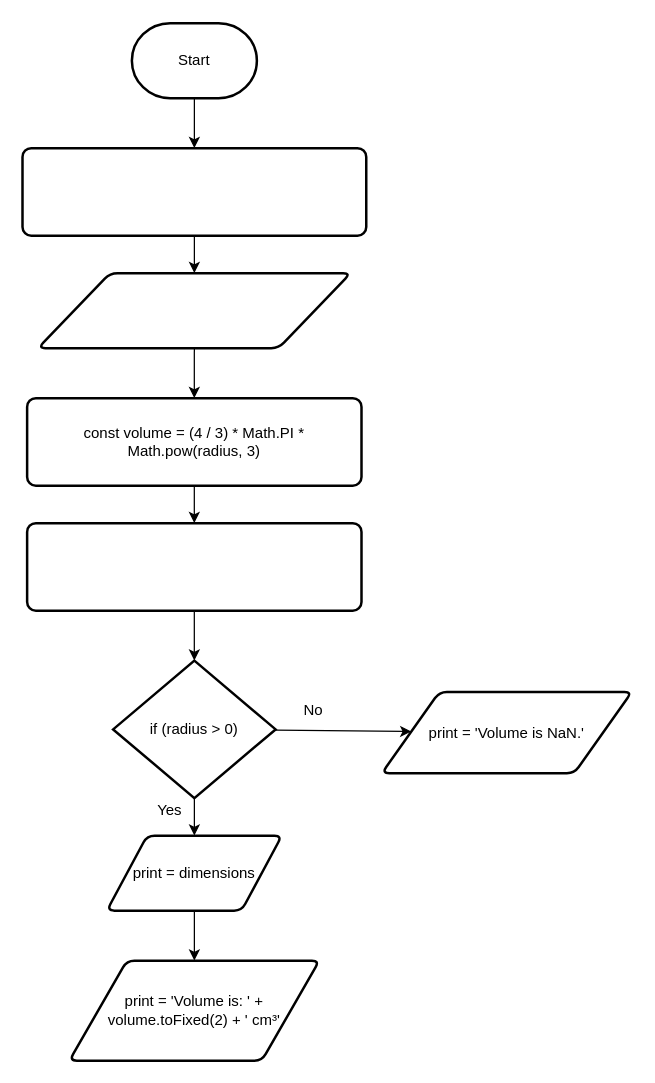
This 655x1083 diagram has some shape labels left out. The centre of each missing label's shape, as x and y in pixels:
const dimensions = "Radius: " + radius + " cm": (193,566)
const params = new URLSearchParams(document.location.search): (194,191)
const radius = params.get('r'): (193,310)
